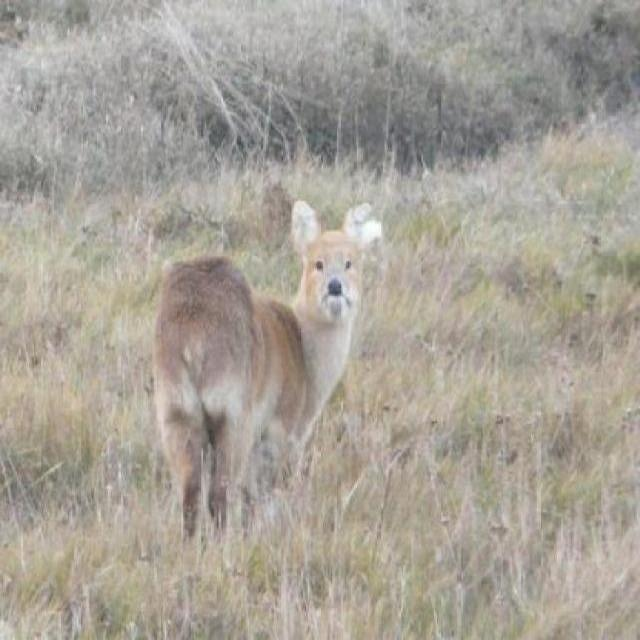deer: (150, 196, 387, 535)
